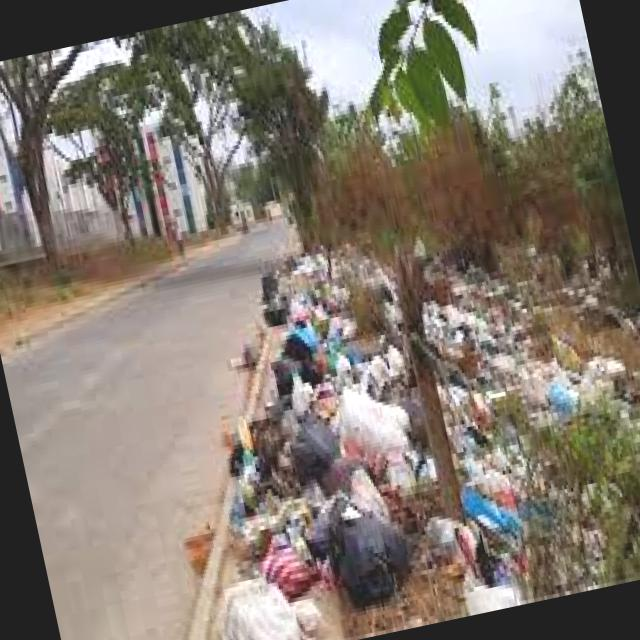garbage: (150, 147, 640, 640)
